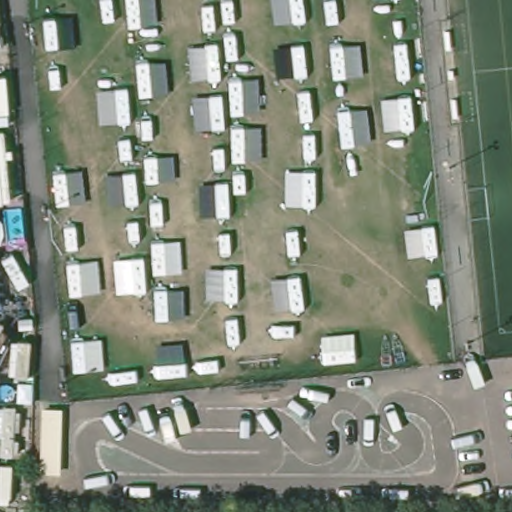pool: (2, 208, 29, 245), (1, 381, 20, 402)
